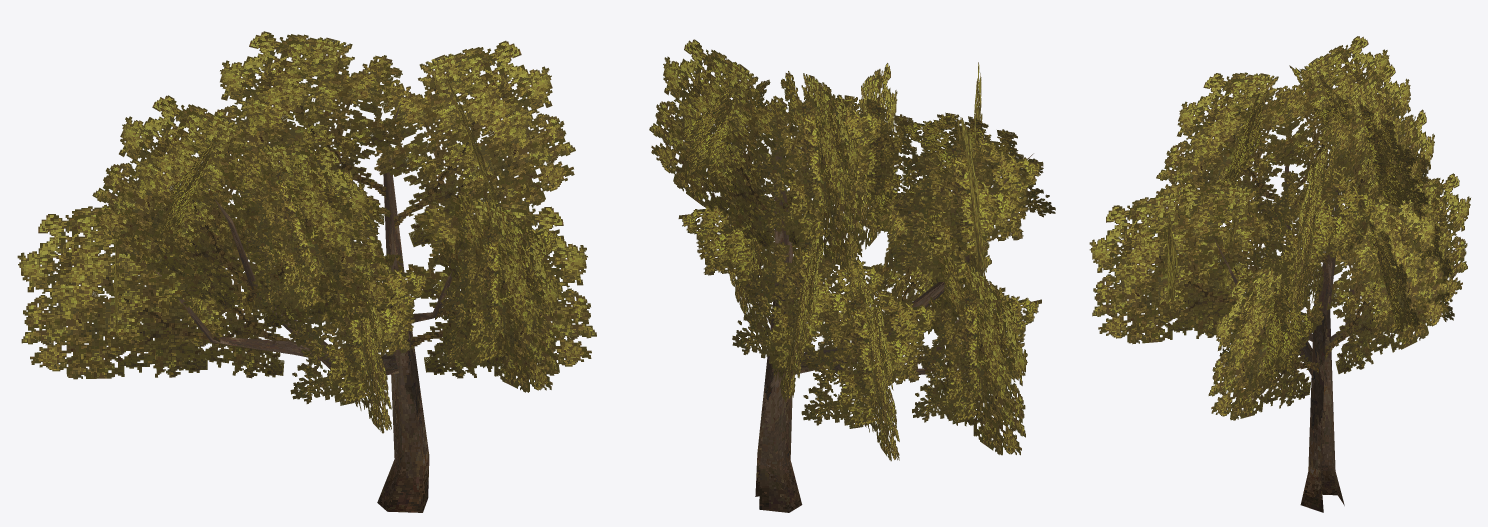
Rendered from stage-maya-p4-81.glb.
3 views of the same model, side by side, from view 1: azimuth 30°, elevation 25°; view 2: azimuth 150°, elevation 25°; view 3: azimuth 270°, elevation 25° (orthographic). The views are drawn at different scales.
Bounding box in the file's own units: 25.52 × 24.16 × 20.56.
3 materials, 3 textured.
